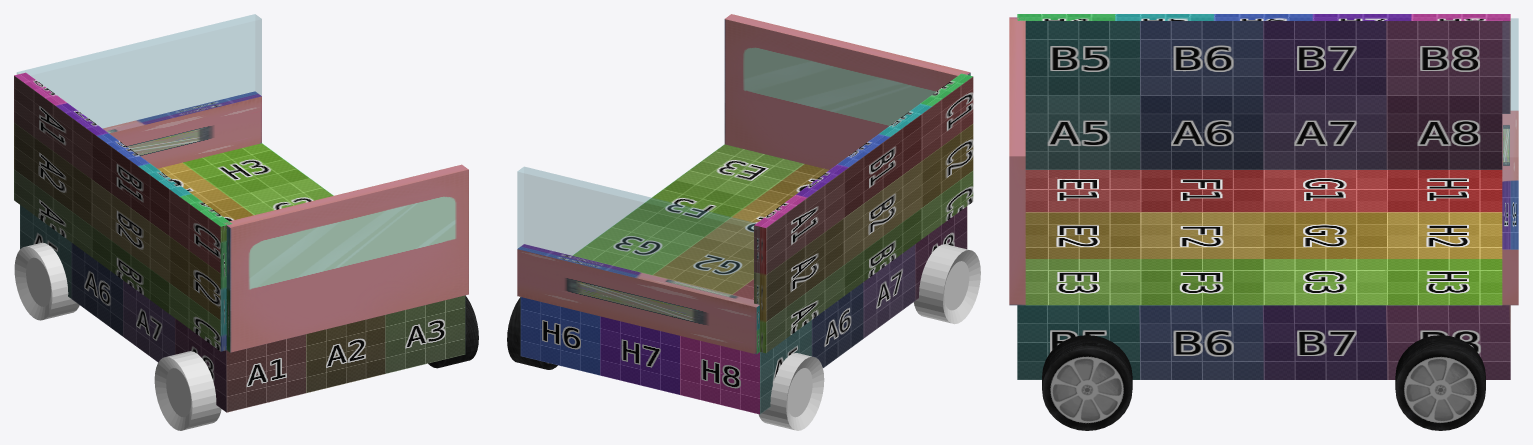
Rendered from Tuture.glb.
3 views of the same model, side by side, from view 1: azimuth 30°, elevation 25°; view 2: azimuth 150°, elevation 25°; view 3: azimuth 270°, elevation 25° (orthographic). The views are drawn at different scales.
Parts seen in each view (by area): view 1: MurDerriere, Sol, MurFond, MurDevant.001, MurDevant, RoueArriereGauche, RoueDevantGauche, RoueArriereDroite; view 2: Sol, MurFond, MurDerriere, MurDevant.001, MurDevant, RoueArriereGauche, RoueDevantGauche, RoueDevantDroite; view 3: Sol, MurFond, RoueDevantDroite, RoueArriereDroite, MurDerriere, MurDevant.001, MurDevant.
Boxes of the visible parts, x1=… form: MurDerriere: x1=224, y1=164, x2=468, y2=352; Sol: x1=20, y1=143, x2=465, y2=412; MurFond: x1=14, y1=72, x2=232, y2=351; MurDevant.001: x1=17, y1=14, x2=261, y2=132; MurDevant: x1=103, y1=91, x2=261, y2=168; RoueArriereGauche: x1=154, y1=351, x2=221, y2=430; RoueDevantGauche: x1=14, y1=242, x2=79, y2=320; RoueArriereDroite: x1=428, y1=295, x2=478, y2=368; Sol: x1=520, y1=144, x2=967, y2=414; MurFond: x1=754, y1=73, x2=973, y2=353; MurDerriere: x1=724, y1=14, x2=970, y2=169; MurDevant.001: x1=517, y1=167, x2=759, y2=306; MurDevant: x1=517, y1=244, x2=759, y2=354; RoueArriereGauche: x1=913, y1=244, x2=980, y2=324; RoueDevantGauche: x1=758, y1=353, x2=824, y2=430; RoueDevantDroite: x1=507, y1=297, x2=557, y2=369; Sol: x1=1017, y1=170, x2=1510, y2=379; MurFond: x1=1017, y1=14, x2=1510, y2=169; RoueDevantDroite: x1=1395, y1=335, x2=1485, y2=430; RoueArriereDroite: x1=1042, y1=335, x2=1132, y2=430; MurDerriere: x1=1009, y1=17, x2=1025, y2=305; MurDevant.001: x1=1503, y1=18, x2=1518, y2=248; MurDevant: x1=1502, y1=110, x2=1518, y2=305.
Size of the model in its own units: 11.52 by 8.4 by 14.88.
Materials: 6 (5 with a texture image).
